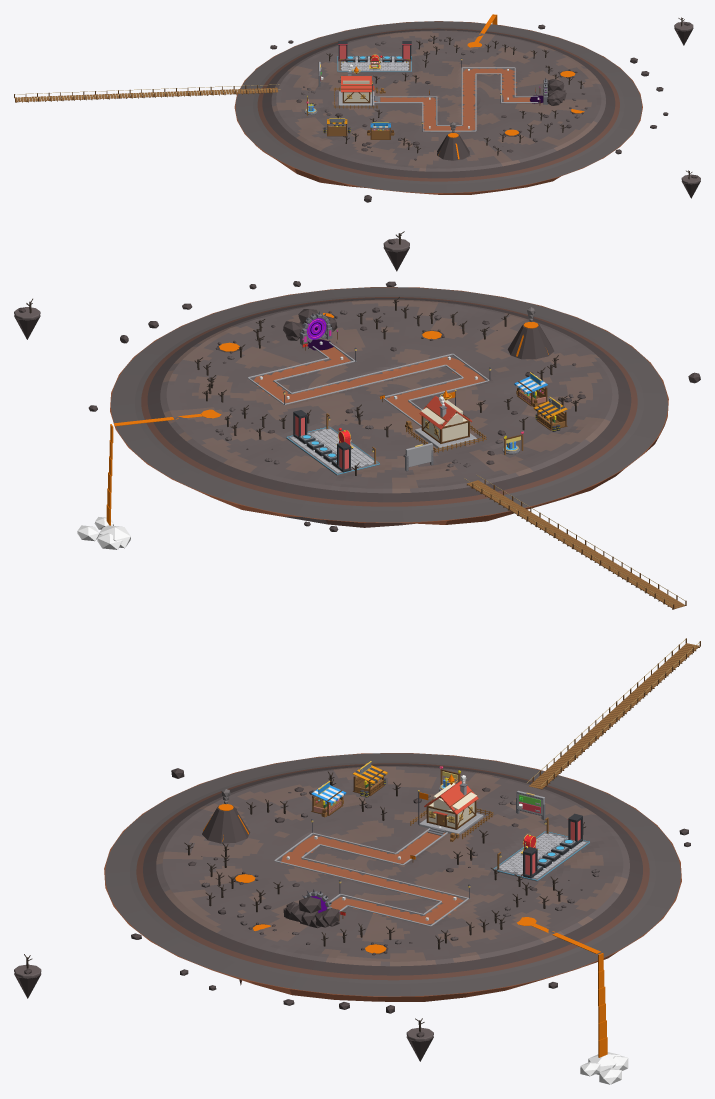
File: Isla5_Volcan.glb
3 renders of one model, top to bottom at view 1: azimuth 30°, elevation 25°; view 2: azimuth 150°, elevation 25°; view 3: azimuth 270°, elevation 25°, orthographic. The views are drawn at different scales.
Visible parts, largest first — view 1: Isla5_Volcan_Terreno, Isla5_Volcan_Base_Flotante, Isla5_Volcan_Casa, Isla5_Volcan_Palanca_Zona, Isla5_Volcan_Monumento, Isla5_Volcan_Portal, Puente_5_8, Isla5_Volcan_Equipamientos_Puesto, Isla5_Volcan_Tienda_Puesto, Isla5_Volcan_Detalles_15; view 2: Isla5_Volcan_Terreno, Isla5_Volcan_Base_Flotante, Isla5_Volcan_Casa, Isla5_Volcan_Palanca_Zona, Isla5_Volcan_Portal, Isla5_Volcan_Monumento, Isla5_Volcan_Detalles_6, Puente_5_8, Isla5_Volcan_Equipamientos_Puesto, Isla5_Volcan_Detalles_7, Isla5_Volcan_Tienda_Puesto, Isla5_Volcan_Mejoras_Marco (+1 smaller); view 3: Isla5_Volcan_Terreno, Isla5_Volcan_Casa, Isla5_Volcan_Base_Flotante, Isla5_Volcan_Palanca_Zona, Isla5_Volcan_Portal, Isla5_Volcan_Monumento, Isla5_Volcan_Detalles_6, Isla5_Volcan_Detalles_7, Isla5_Volcan_Equipamientos_Puesto, Isla5_Volcan_Tienda_Puesto, Puente_5_8.
Boxes of the visible parts, <box> form: Isla5_Volcan_Terreno: <box>235,21,641,192</box>; Isla5_Volcan_Base_Flotante: <box>234,21,642,194</box>; Isla5_Volcan_Casa: <box>333,64,380,108</box>; Isla5_Volcan_Palanca_Zona: <box>337,41,411,72</box>; Isla5_Volcan_Monumento: <box>437,122,469,160</box>; Isla5_Volcan_Portal: <box>530,78,566,105</box>; Puente_5_8: <box>15,84,280,98</box>; Isla5_Volcan_Equipamientos_Puesto: <box>323,118,350,136</box>; Isla5_Volcan_Tienda_Puesto: <box>367,122,394,139</box>; Isla5_Volcan_Detalles_15: <box>681,170,700,198</box>; Isla5_Volcan_Terreno: <box>111,287,667,522</box>; Isla5_Volcan_Base_Flotante: <box>110,287,668,527</box>; Isla5_Volcan_Casa: <box>406,389,486,452</box>; Isla5_Volcan_Palanca_Zona: <box>286,410,380,475</box>; Isla5_Volcan_Portal: <box>283,309,337,350</box>; Isla5_Volcan_Monumento: <box>507,307,554,359</box>; Isla5_Volcan_Detalles_6: <box>94,414,202,548</box>; Puente_5_8: <box>464,475,685,604</box>; Isla5_Volcan_Equipamientos_Puesto: <box>533,396,567,431</box>; Isla5_Volcan_Detalles_7: <box>77,488,121,549</box>; Isla5_Volcan_Tienda_Puesto: <box>514,372,547,407</box>; Isla5_Volcan_Mejoras_Marco: <box>405,443,433,471</box>; Isla5_Volcan_Terreno: <box>105,753,680,996</box>; Isla5_Volcan_Casa: <box>410,774,493,839</box>; Isla5_Volcan_Base_Flotante: <box>104,753,681,1001</box>; Isla5_Volcan_Palanca_Zona: <box>493,813,590,881</box>; Isla5_Volcan_Portal: <box>283,889,339,928</box>; Isla5_Volcan_Monumento: <box>202,789,250,843</box>; Isla5_Volcan_Detalles_6: <box>531,923,621,1076</box>; Isla5_Volcan_Detalles_7: <box>598,1020,628,1084</box>; Isla5_Volcan_Equipamientos_Puesto: <box>353,761,387,797</box>; Isla5_Volcan_Tienda_Puesto: <box>311,781,346,817</box>; Puente_5_8: <box>527,639,699,785</box>.
Size of the model in its own units: 232 by 45.58 by 167.
Materials: 1 (1 with a texture image).
